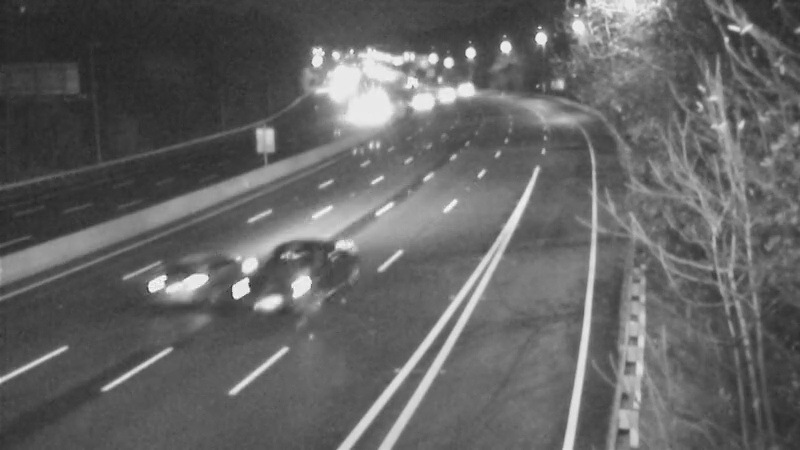vehicle: (236, 255, 316, 335), (143, 234, 223, 314), (438, 58, 488, 108), (422, 67, 472, 117), (406, 75, 456, 125)
